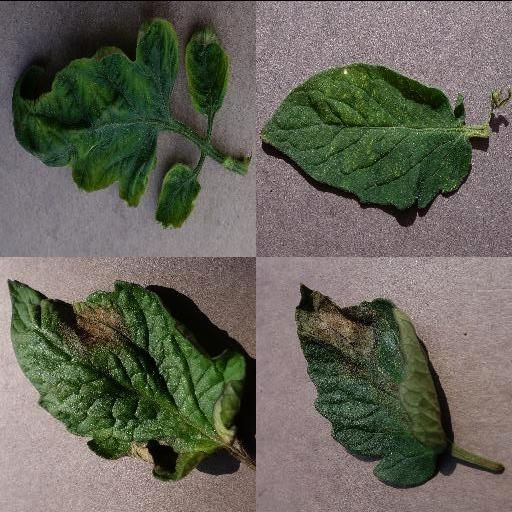Late Blight: (7, 277, 251, 481), (296, 282, 444, 486)
Spider Mites: (260, 62, 474, 210)
Yellow Leaf Curl Virus: (10, 17, 178, 208), (182, 24, 230, 112), (154, 160, 200, 229)
